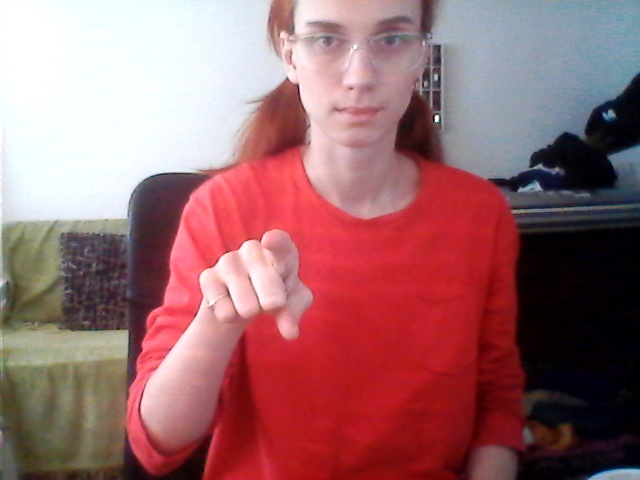ty: (187, 220, 331, 352)
